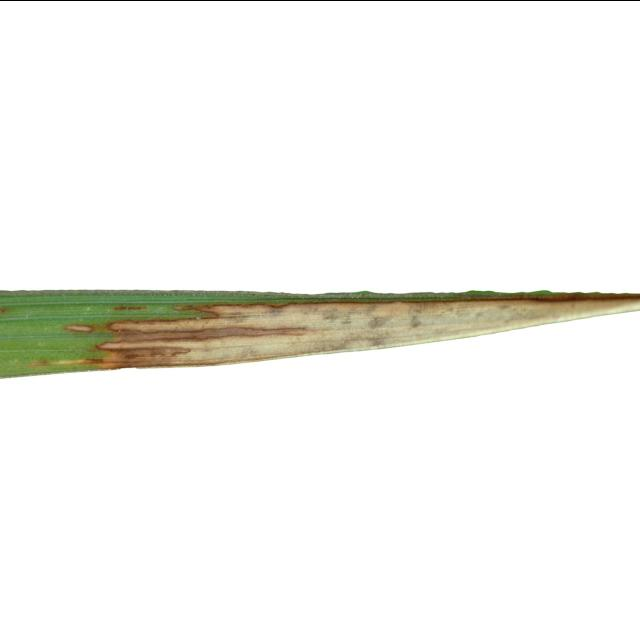Leaf scald: (0, 192, 640, 490)
